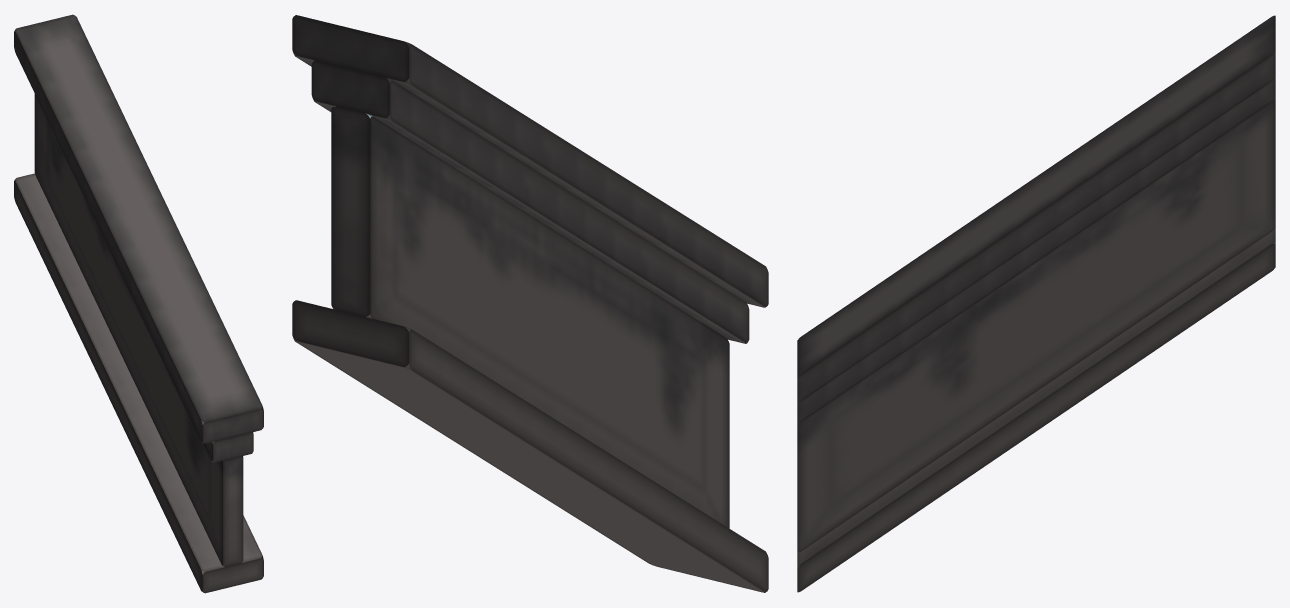
Rendered from rail3.obj.
3 views of the same model, side by side, from view 1: azimuth 30°, elevation 25°; view 2: azimuth 150°, elevation 25°; view 3: azimuth 270°, elevation 25° (orthographic). The views are drawn at different scales.
Parts seen in each view (by area): view 1: cuboid; view 2: cuboid; view 3: cuboid.
Boxes of the visible parts, x1,y1,x2,y2 form: cuboid: (14, 14, 263, 593); cuboid: (292, 15, 768, 592); cuboid: (797, 15, 1275, 592).
Size of the model in its own units: 0.1875 by 1.25 by 1.
Materials: 1 (1 with a texture image).
